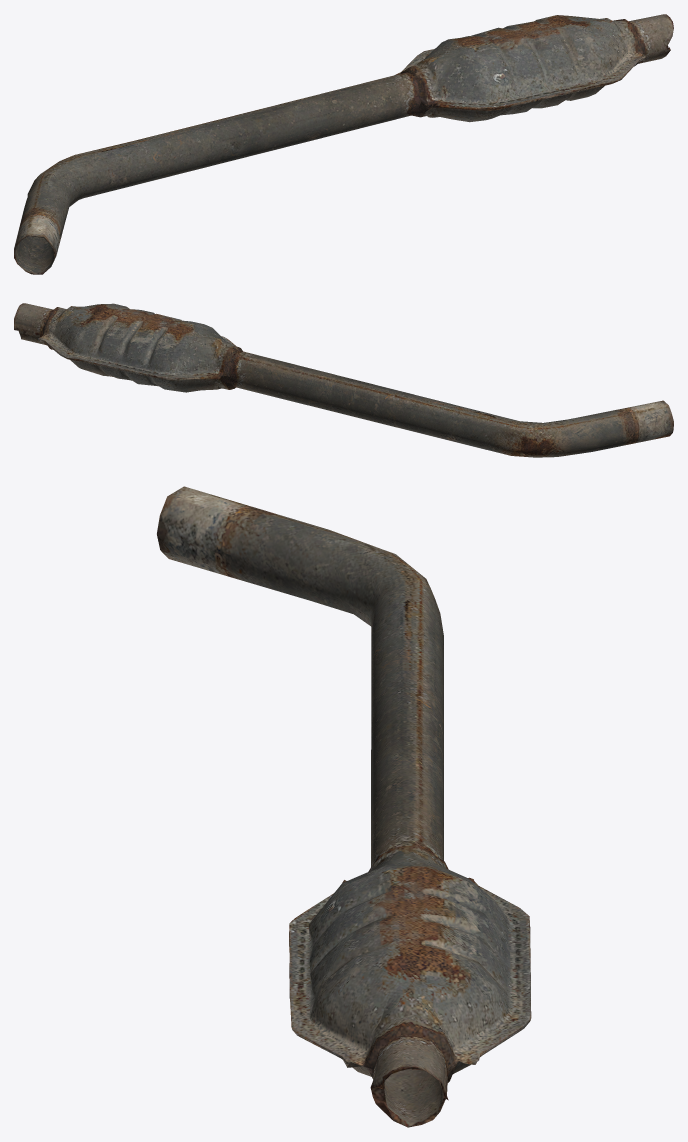
File: SM_Ind_Jun_Exhaust_Metal_Rusty_06.gltf
The picture shows the model from 3 angles, top to bottom: view 1: azimuth 30°, elevation 25°; view 2: azimuth 150°, elevation 25°; view 3: azimuth 270°, elevation 25°; orthographic projection. The views are drawn at different scales.
Parts seen in each view (by area): view 1: SM_Ind_Jun_Exhaust_Metal_Rusty_06; view 2: SM_Ind_Jun_Exhaust_Metal_Rusty_06; view 3: SM_Ind_Jun_Exhaust_Metal_Rusty_06.
Boxes of the visible parts, x1,y1,x2,y2 form: SM_Ind_Jun_Exhaust_Metal_Rusty_06: (14, 14, 673, 274); SM_Ind_Jun_Exhaust_Metal_Rusty_06: (14, 303, 673, 457); SM_Ind_Jun_Exhaust_Metal_Rusty_06: (157, 486, 531, 1127).
Size of the model in its own units: 0.9784 by 0.0975 by 0.2645.
Materials: 1 (1 with a texture image).
